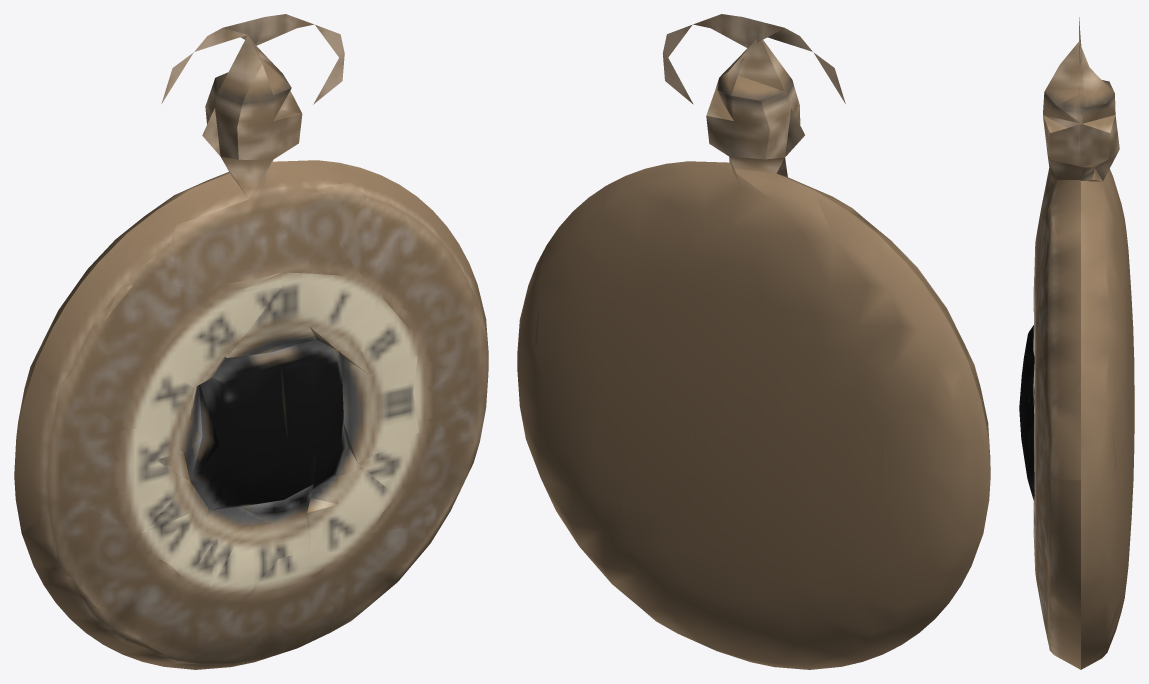
The model's file is vintage_watch.glb.
The picture shows the model from 3 angles, left to right: view 1: azimuth 30°, elevation 25°; view 2: azimuth 150°, elevation 25°; view 3: azimuth 270°, elevation 25°; orthographic projection. The views are drawn at different scales.
Visible parts, largest first — view 1: mesh; view 2: mesh; view 3: mesh.
Part boxes in pixels (box(x1,y1,x2,y2)): mesh: box(14, 14, 488, 669); mesh: box(517, 14, 990, 669); mesh: box(1019, 17, 1134, 669).
Size of the model in its own units: 0.0594 by 0.077 by 0.0131.
Materials: 1 (1 with a texture image).
